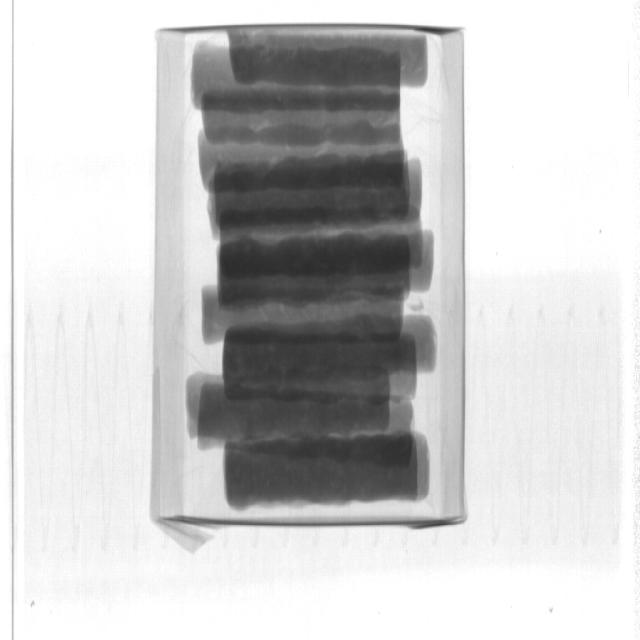ym: (411, 299, 426, 314)
